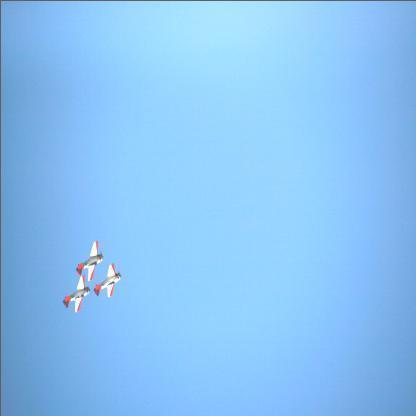aircraft: (75, 239, 104, 281), (63, 272, 90, 312), (94, 263, 121, 298)
